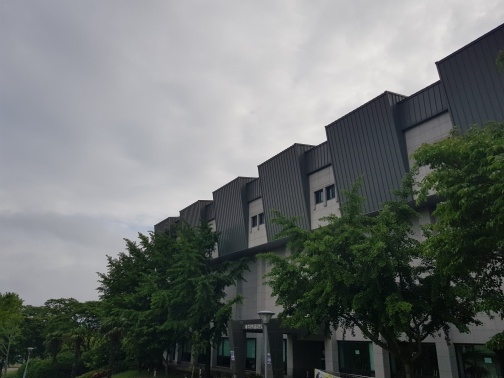Gym: (155, 44, 500, 375), (183, 91, 408, 254), (224, 313, 323, 373)
